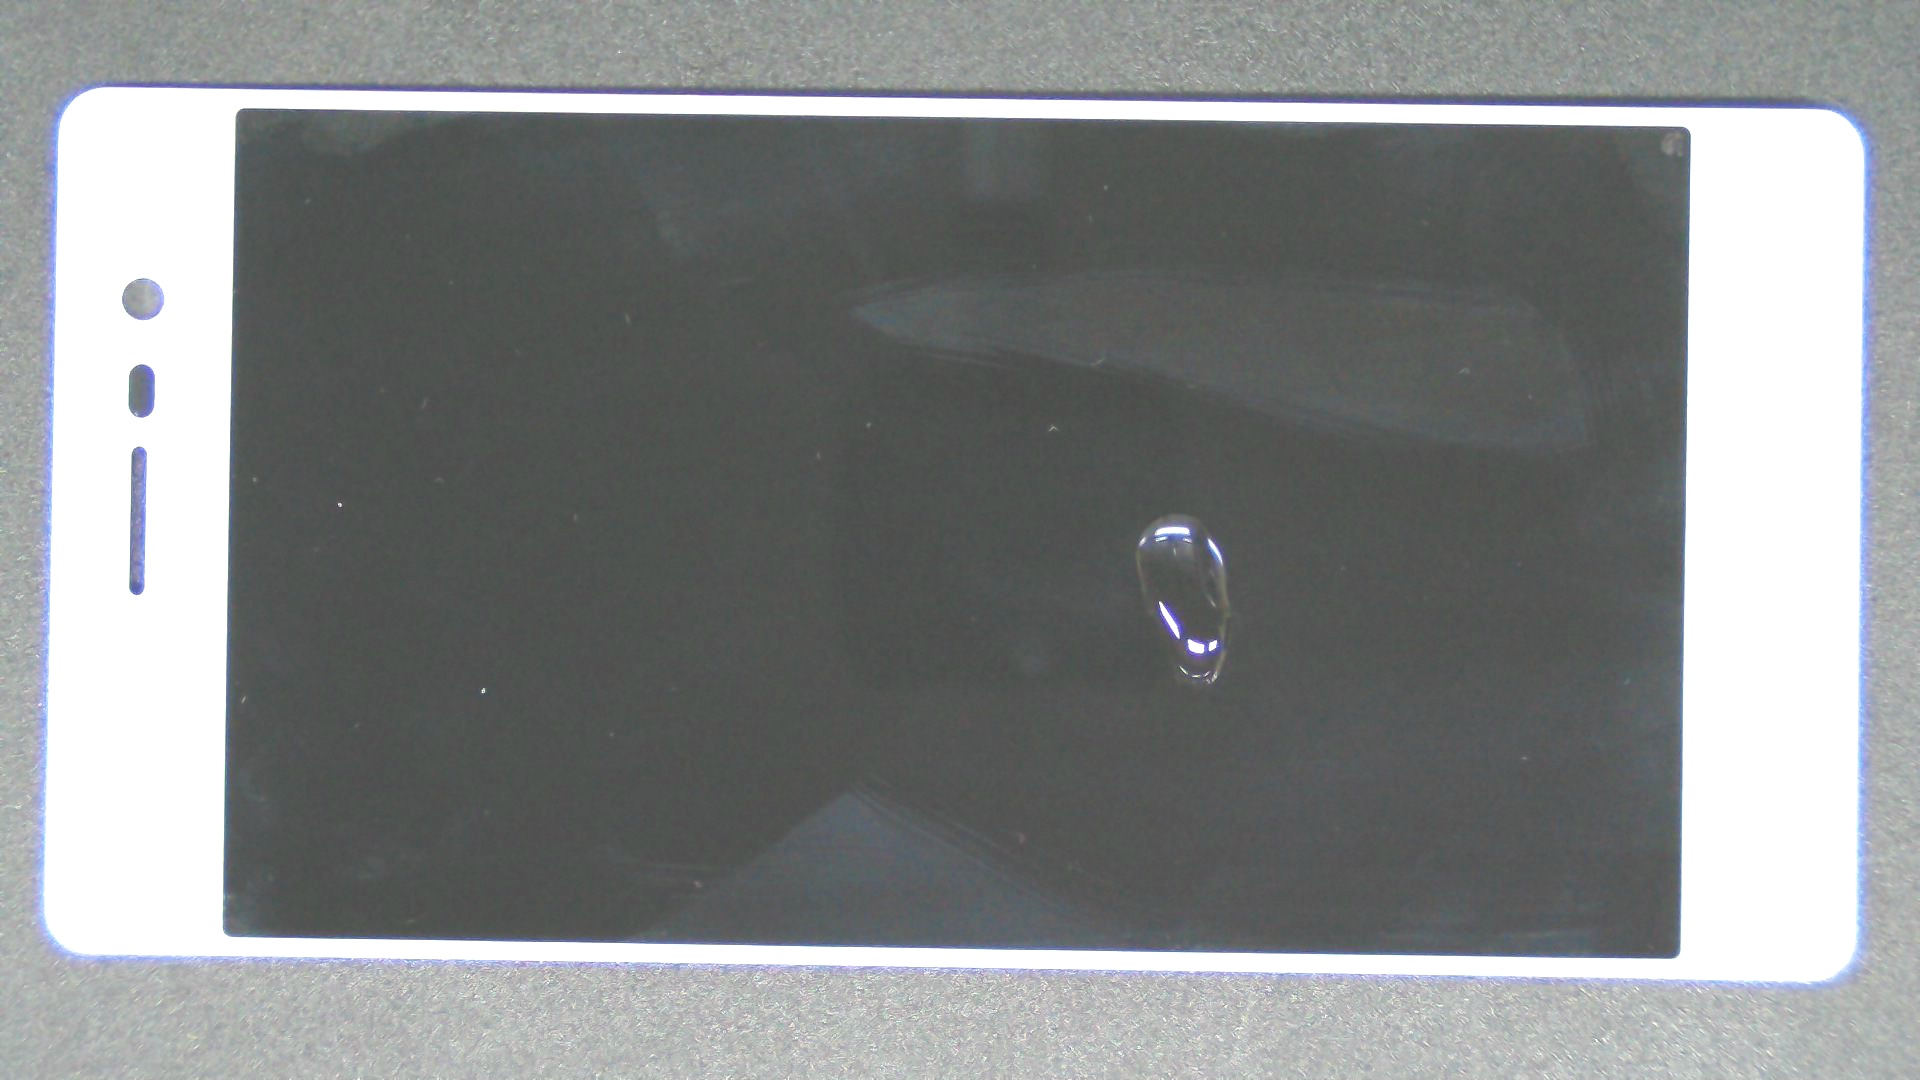oil: (587, 257, 1759, 773)
